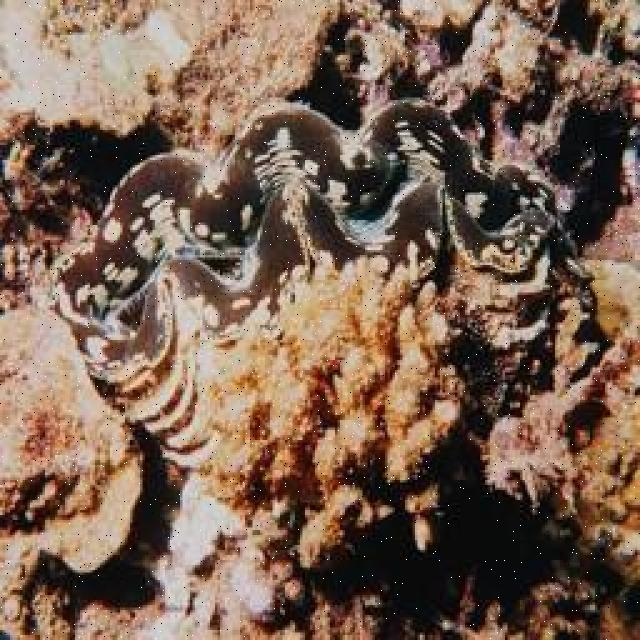reefs: (46, 98, 578, 381), (200, 276, 467, 563)
